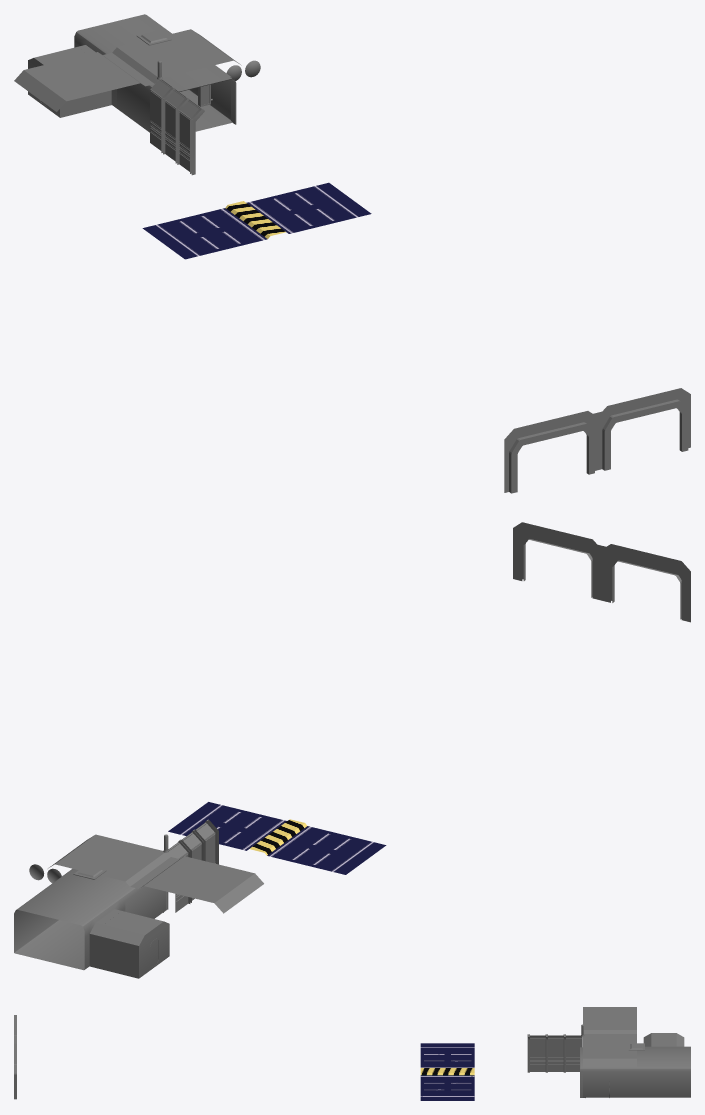
Rendered from tunnel.fbx.
3 renders of one model, top to bottom at view 1: azimuth 30°, elevation 25°; view 2: azimuth 150°, elevation 25°; view 3: azimuth 270°, elevation 25°, orthographic. The views are drawn at different scales.
Visible parts, largest first — view 1: road, turnelroof, Tunnelgate, Tunnelbody_exit, Tunnelbody, Soundproofwall_glass; view 2: Tunnelbody_exit, turnelroof, road, Tunnelgate, Tunnelbody, Soundproofwall_glass; view 3: Tunnelbody_exit, road, turnelroof, Soundproofwall_glass, Tunnelbody, Tunnelgate.
Part boxes in pixels (x1=…): road: x1=142, y1=182, x2=371, y2=259; turnelroof: x1=14, y1=29, x2=241, y2=111; Tunnelgate: x1=504, y1=388, x2=690, y2=493; Tunnelbody_exit: x1=28, y1=14, x2=190, y2=117; Tunnelbody: x1=117, y1=65, x2=232, y2=132; Soundproofwall_glass: x1=150, y1=79, x2=204, y2=175; Tunnelbody_exit: x1=14, y1=880, x2=169, y2=978; turnelroof: x1=48, y1=834, x2=263, y2=913; road: x1=168, y1=802, x2=386, y2=874; Tunnelgate: x1=513, y1=522, x2=690, y2=622; Tunnelbody: x1=54, y1=868, x2=165, y2=930; Soundproofwall_glass: x1=167, y1=819, x2=218, y2=912; Tunnelbody_exit: x1=637, y1=1033, x2=690, y2=1097; road: x1=420, y1=1043, x2=474, y2=1100; turnelroof: x1=583, y1=1007, x2=636, y2=1066; Soundproofwall_glass: x1=527, y1=1034, x2=582, y2=1072; Tunnelbody: x1=583, y1=1067, x2=636, y2=1097; Tunnelgate: x1=14, y1=1015, x2=16, y2=1099.
Size of the model in its own units: 1521 by 517 by 6261.
